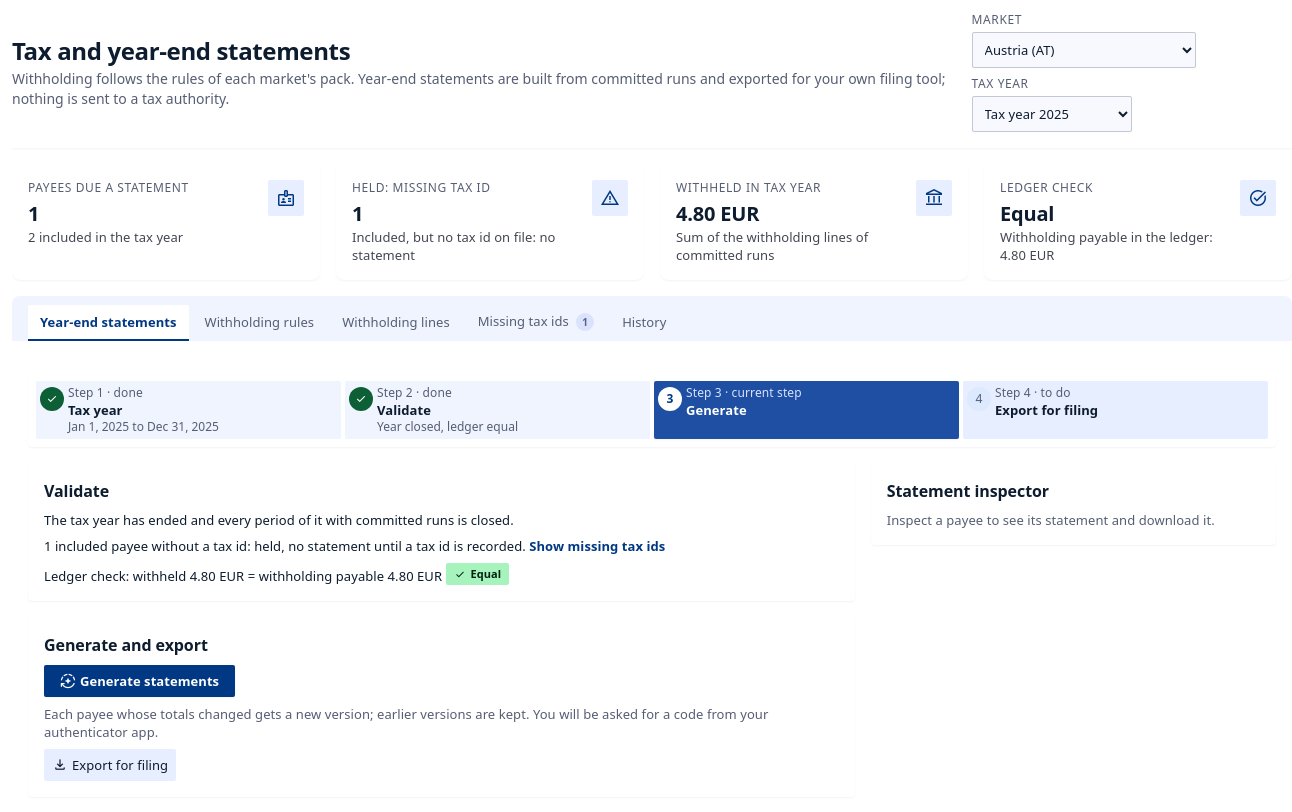
Test case: SC-12 Tax configuration and year-end statements › refuses generation with the periods to close first
Step 1. Click the button "Generate statements" → (140, 681), box [44,665,235,697]
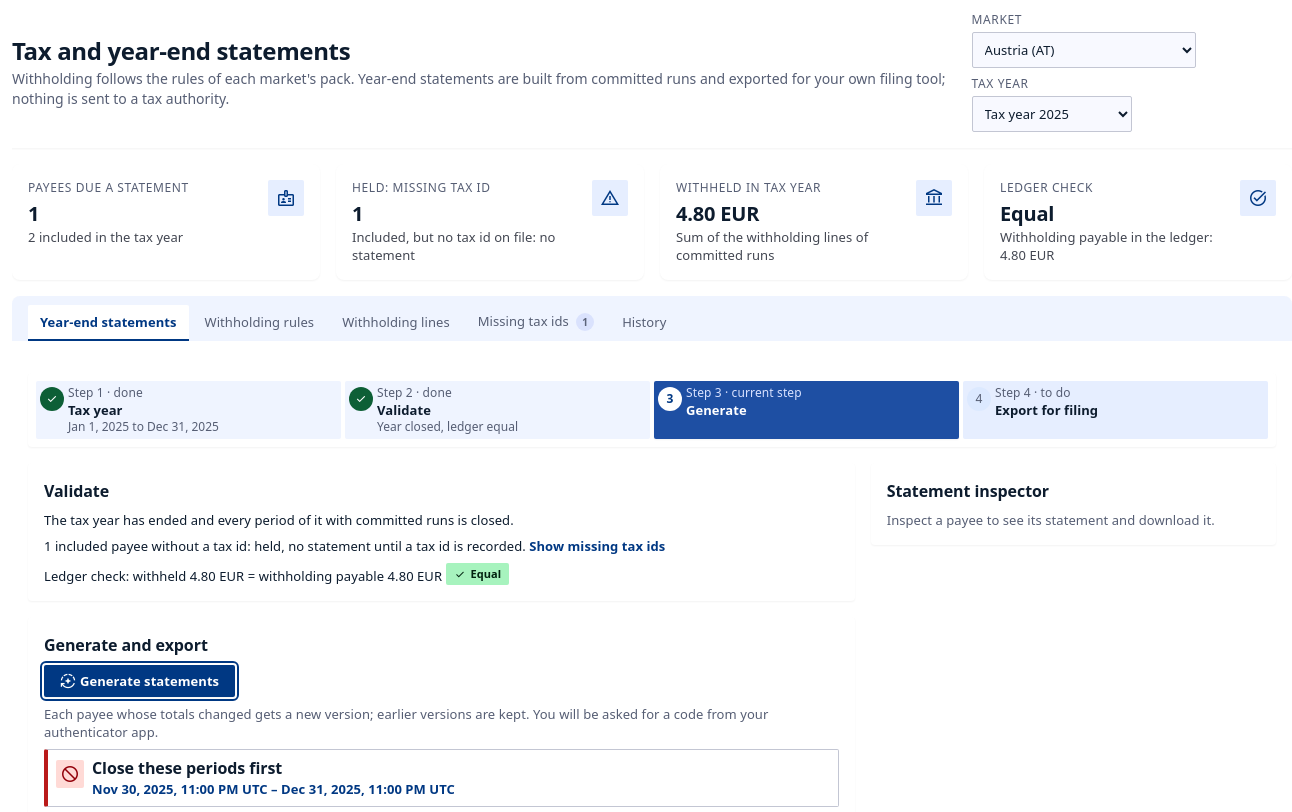
Check: the text "Close these periods first" is shown, box [92,757,282,779]
